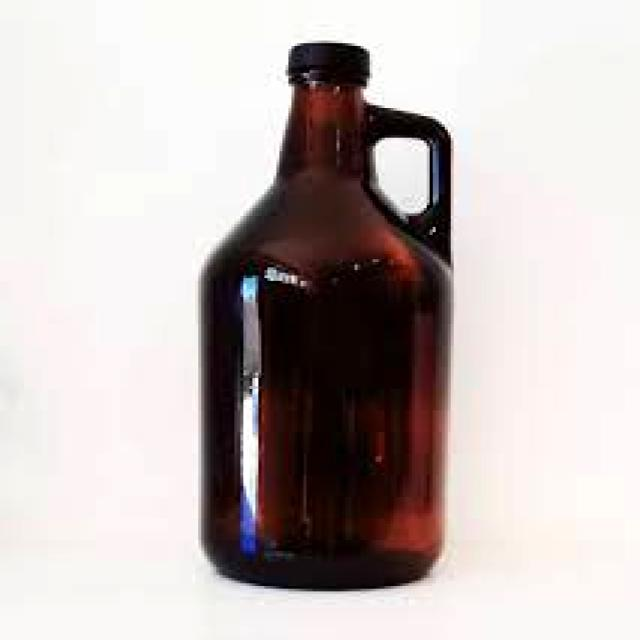Glass: (198, 37, 453, 595)
